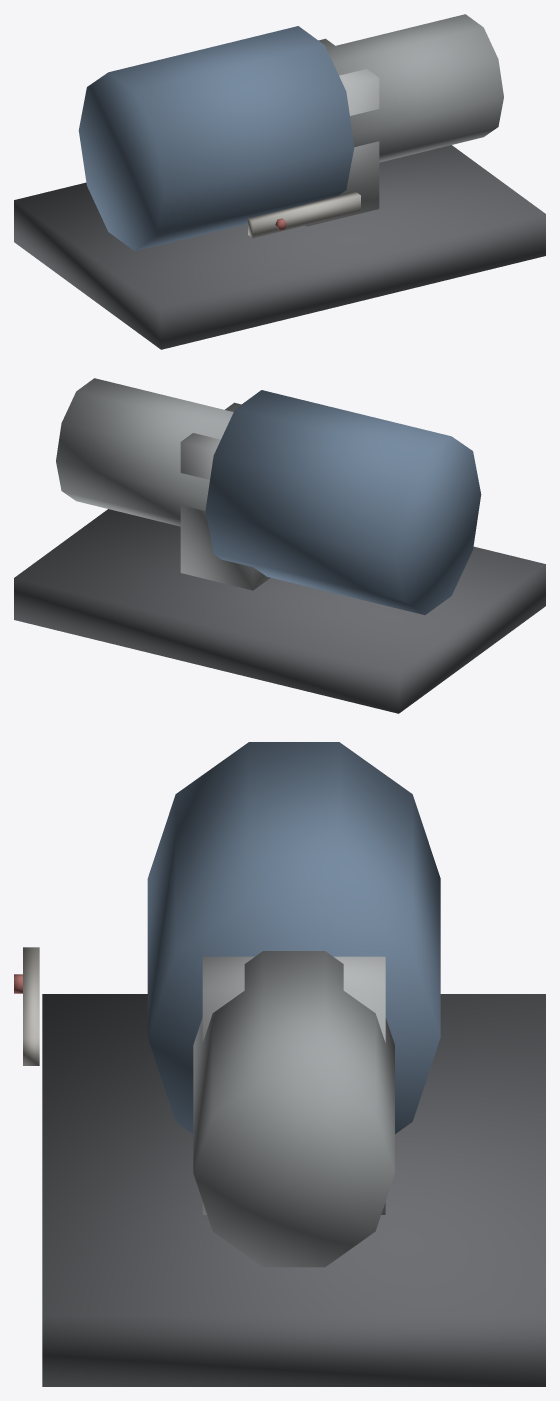
Rendered from pump_skid__compact.glb.
The picture shows the model from 3 angles, top to bottom: view 1: azimuth 30°, elevation 25°; view 2: azimuth 150°, elevation 25°; view 3: azimuth 270°, elevation 25°; orthographic projection. The views are drawn at different scales.
Parts seen in each view (by area): view 1: world; view 2: world; view 3: world.
Part boxes in pixels (left/top/right/bottom): world: left=14, top=14, right=545, bottom=349; world: left=14, top=378, right=545, bottom=713; world: left=14, top=742, right=545, bottom=1386.
Bounding box in the file's own units: 0.7182 × 0.3647 × 0.4997.
